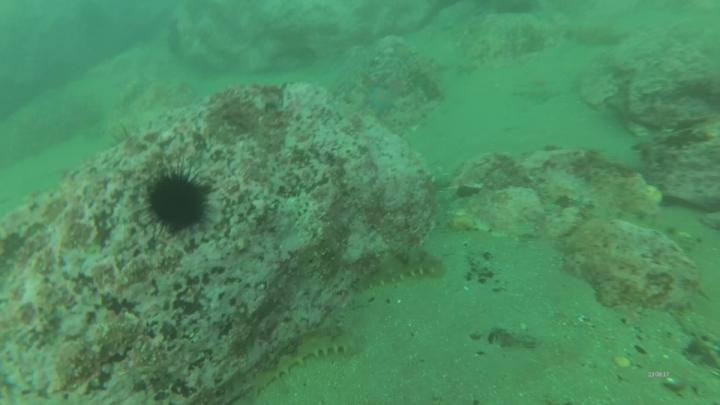echinus: (149, 170, 209, 236)
holothurian: (249, 327, 365, 393), (351, 251, 448, 292)
starfish: (367, 87, 399, 116)
